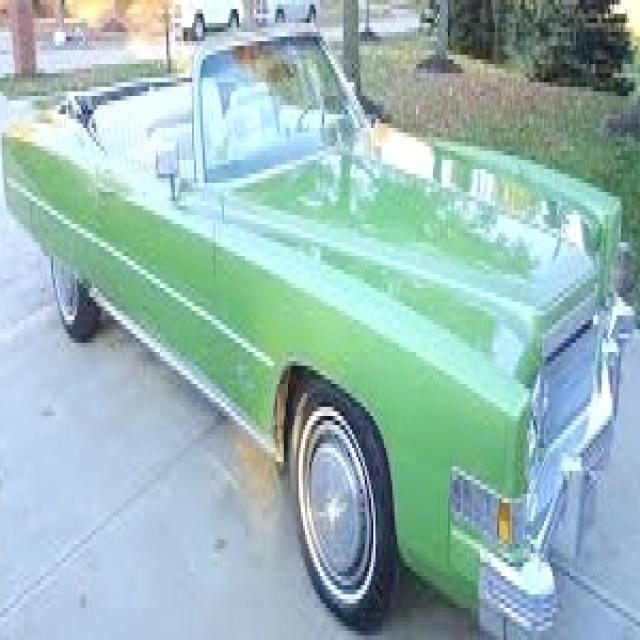green: (0, 27, 627, 625)
